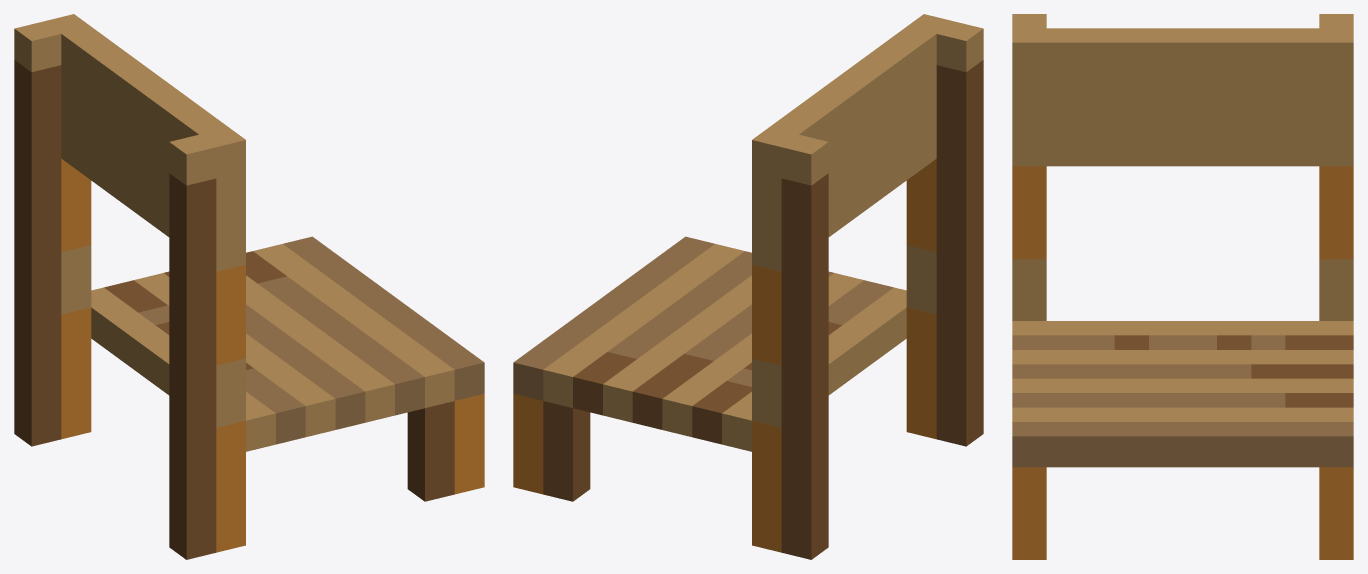
File: chair2.obj
3 renders of one model, left to right at view 1: azimuth 30°, elevation 25°; view 2: azimuth 150°, elevation 25°; view 3: azimuth 270°, elevation 25°, orthographic.
Size of the model in its own units: 1 by 1.3 by 1.
